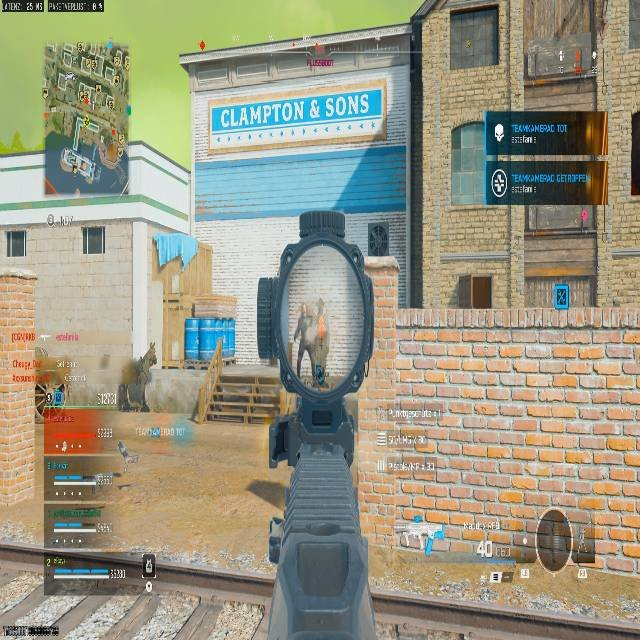player: (116, 440, 142, 472)
